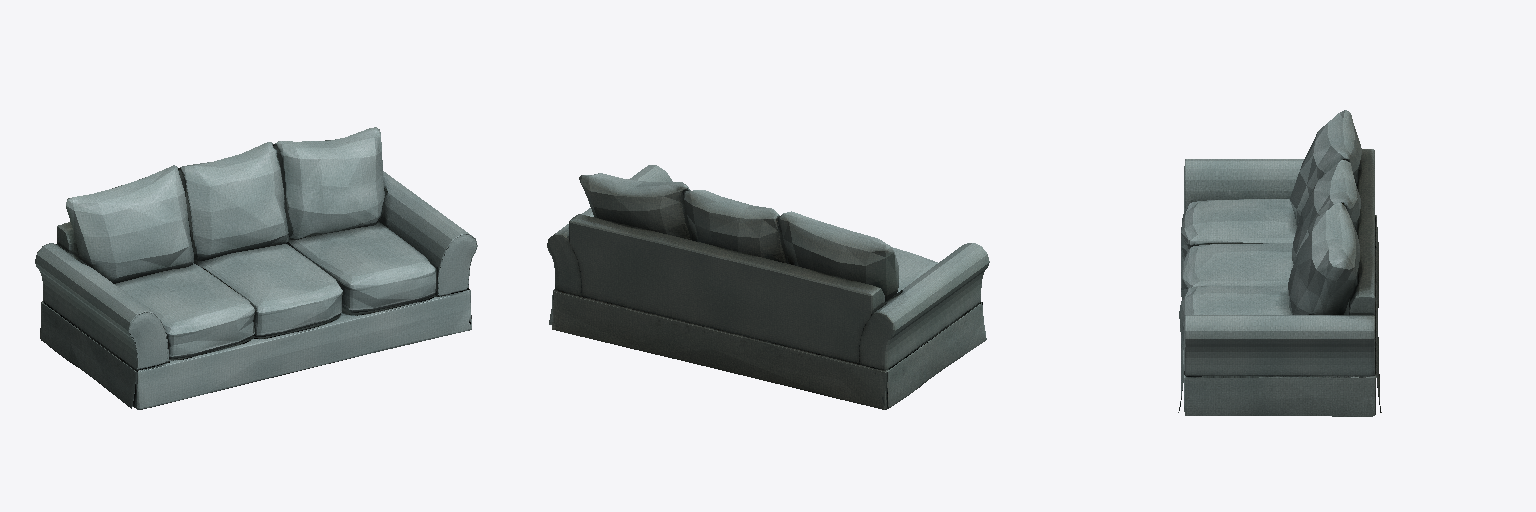
3 renders of one model, left to right at view 1: azimuth 30°, elevation 25°; view 2: azimuth 150°, elevation 25°; view 3: azimuth 270°, elevation 25°, orthographic.
Parts seen in each view (by area): view 1: CasualSofa_834236_Stone_Gray__CasualSofa_834236_Stone_Gray__low; view 2: CasualSofa_834236_Stone_Gray__CasualSofa_834236_Stone_Gray__low; view 3: CasualSofa_834236_Stone_Gray__CasualSofa_834236_Stone_Gray__low.
Boxes of the visible parts, box(x1,y1,x2,y2) form: CasualSofa_834236_Stone_Gray__CasualSofa_834236_Stone_Gray__low: box(35, 127, 477, 409); CasualSofa_834236_Stone_Gray__CasualSofa_834236_Stone_Gray__low: box(547, 165, 989, 409); CasualSofa_834236_Stone_Gray__CasualSofa_834236_Stone_Gray__low: box(1178, 110, 1381, 416).
Bounding box in the file's own units: 211 × 91.76 × 106.
1 materials, 1 textured.